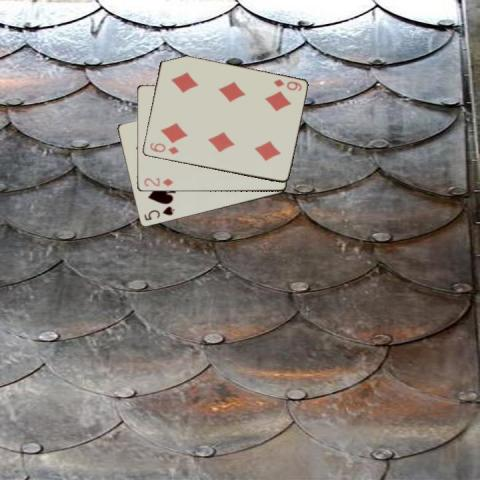2d: (141, 175, 174, 188)
5s: (141, 203, 176, 222)
6d: (147, 139, 180, 156), (270, 76, 302, 93)
